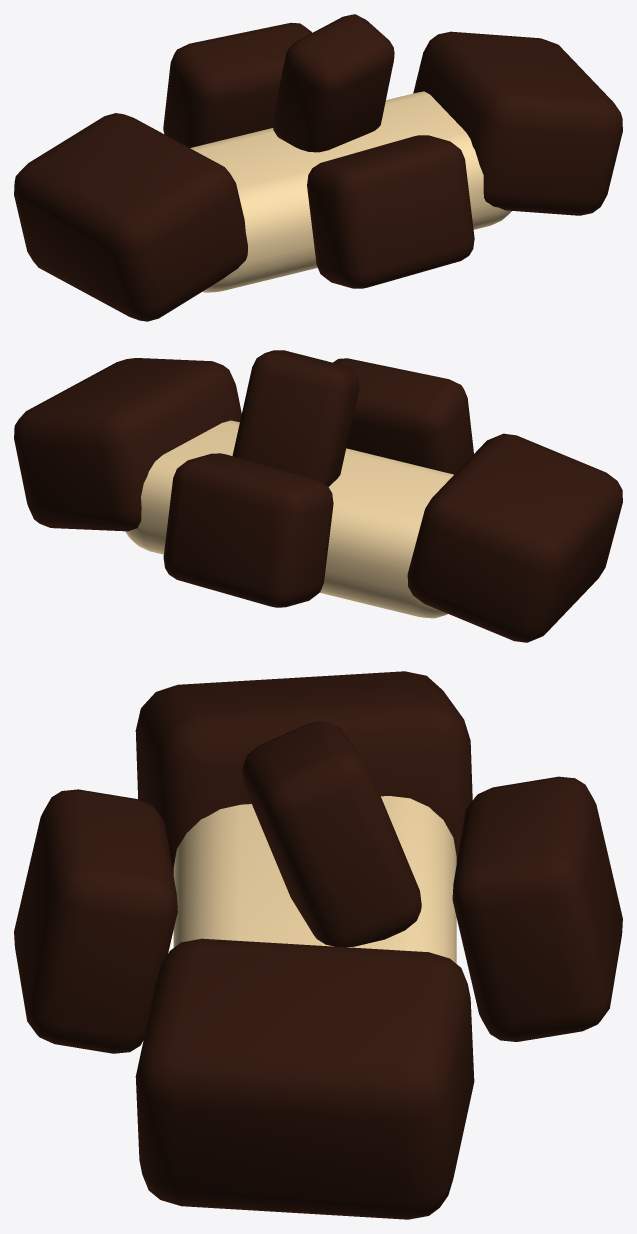
The model's file is Interactive_Chocolate_Capsule.fbx.
The picture shows the model from 3 angles, top to bottom: view 1: azimuth 30°, elevation 25°; view 2: azimuth 150°, elevation 25°; view 3: azimuth 270°, elevation 25°; orthographic projection. The views are drawn at different scales.
Parts seen in each view (by area): view 1: ShellPiece_01, ShellPiece_02, ShellPiece_04, Cream_Inside, ShellPiece_05, ShellPiece_03; view 2: ShellPiece_01, ShellPiece_02, ShellPiece_03, Cream_Inside, ShellPiece_05, ShellPiece_04; view 3: ShellPiece_02, ShellPiece_03, ShellPiece_04, ShellPiece_01, ShellPiece_05, Cream_Inside.
Part boxes in pixels (bbox=[...]): ShellPiece_01: bbox=[14, 113, 247, 321]; ShellPiece_02: bbox=[413, 31, 622, 215]; ShellPiece_04: bbox=[307, 135, 474, 288]; Cream_Inside: bbox=[190, 91, 511, 292]; ShellPiece_05: bbox=[272, 14, 394, 152]; ShellPiece_03: bbox=[163, 22, 312, 147]; ShellPiece_01: bbox=[407, 433, 622, 642]; ShellPiece_02: bbox=[14, 358, 241, 531]; ShellPiece_03: bbox=[163, 453, 333, 607]; Cream_Inside: bbox=[125, 420, 453, 618]; ShellPiece_05: bbox=[232, 350, 359, 486]; ShellPiece_04: bbox=[333, 358, 473, 474]; ShellPiece_02: bbox=[135, 938, 474, 1219]; ShellPiece_03: bbox=[452, 776, 622, 1041]; ShellPiece_04: bbox=[14, 789, 177, 1053]; ShellPiece_01: bbox=[135, 671, 472, 874]; ShellPiece_05: bbox=[242, 721, 421, 947]; Cream_Inside: bbox=[173, 796, 456, 963].
Size of the model in its own units: 2.9 by 1.05 by 1.81.
